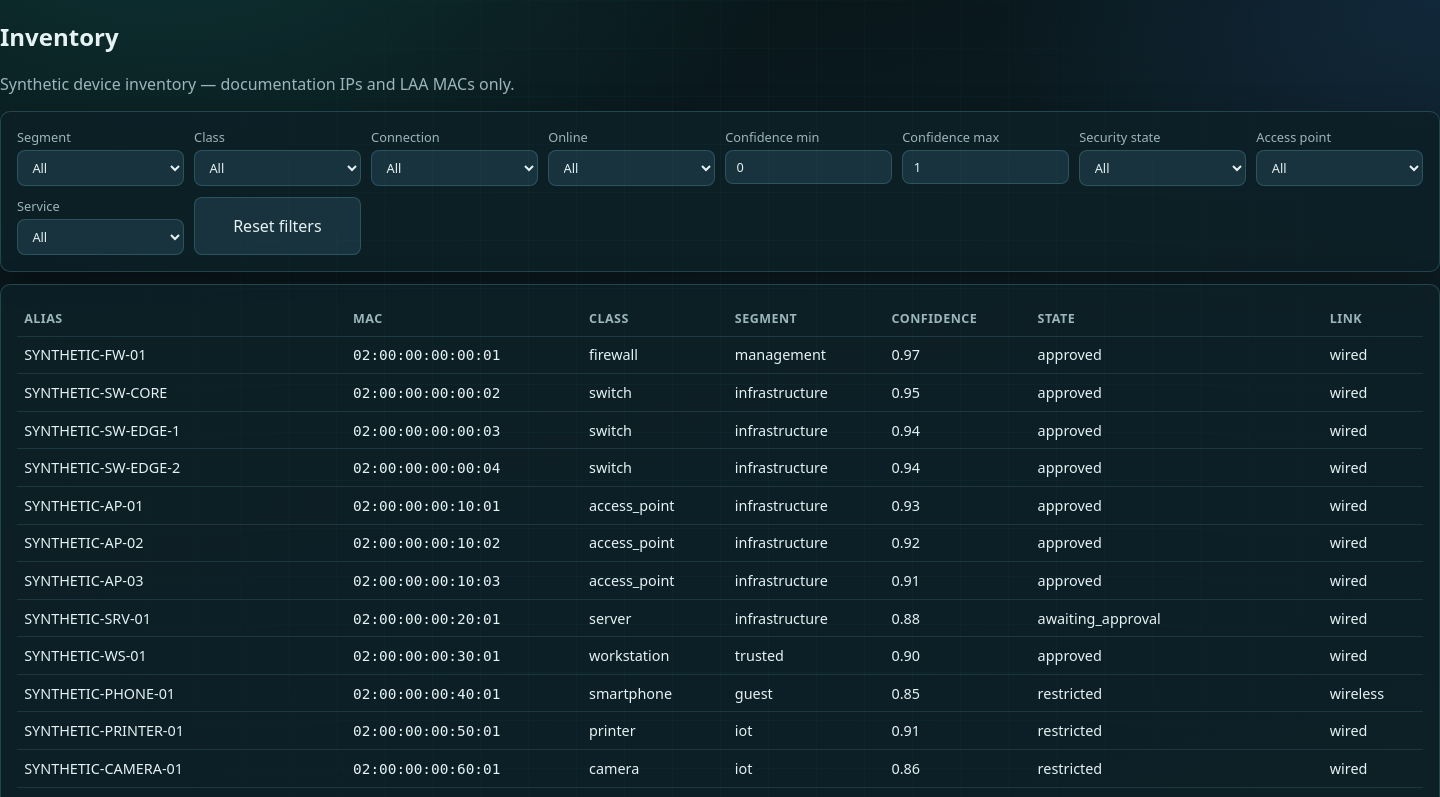
Test: Filters › filters by wired connection
The width and height of the screenshot is (1440, 797).
Select "Wireless" in the dropdown named "Filter by connection": point(454, 168) [371,150,538,186]
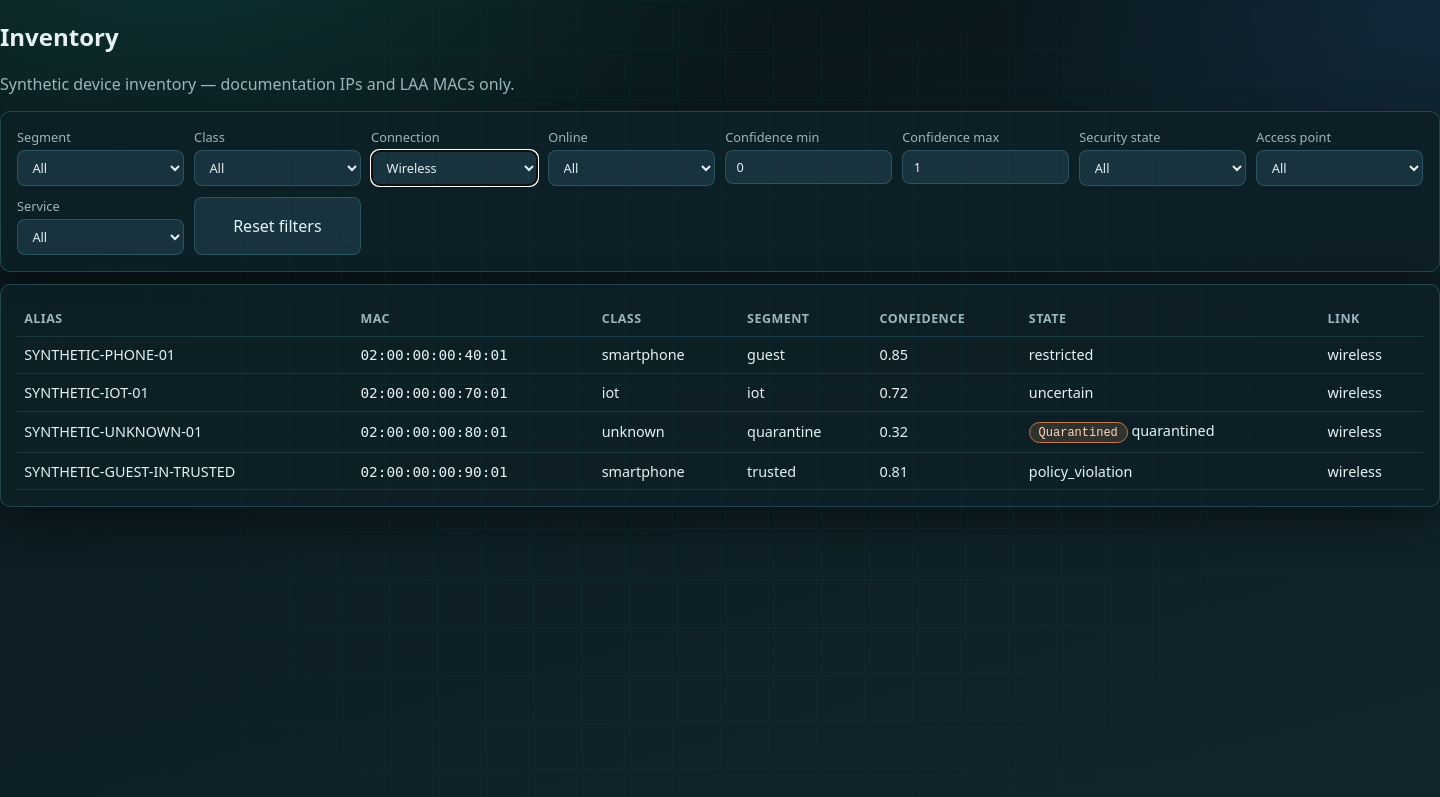
expect the text "SYNTHETIC-PHONE-01" is shown: met, box [17,336,353,374]
expect the text "SYNTHETIC-FW-01" is gone: met
